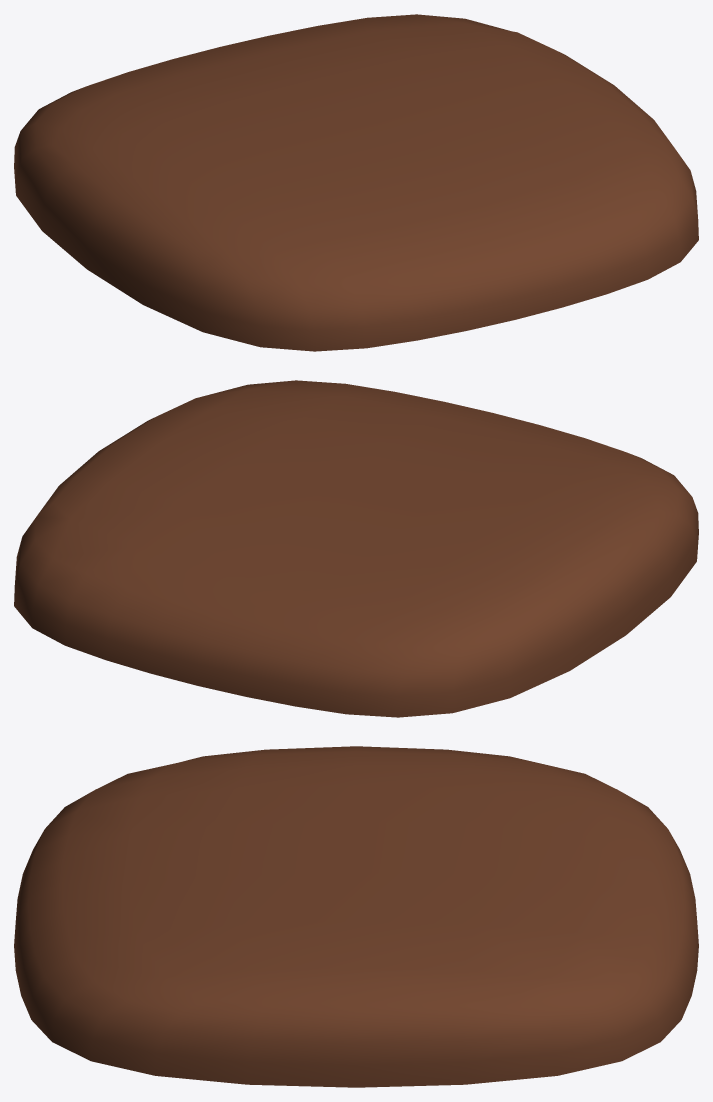
The model's file is Ground3.fbx.
The picture shows the model from 3 angles, top to bottom: view 1: azimuth 30°, elevation 25°; view 2: azimuth 150°, elevation 25°; view 3: azimuth 270°, elevation 25°; orthographic projection. The views are drawn at different scales.
Visible parts, largest first — view 1: Plane.008; view 2: Plane.008; view 3: Plane.008.
Part boxes in pixels (x1=…): Plane.008: x1=14, y1=14, x2=698, y2=351; Plane.008: x1=14, y1=380, x2=698, y2=717; Plane.008: x1=14, y1=746, x2=698, y2=1087.
Bounding box in the file's own units: 2.56 × 2.61 × 0.3628.
